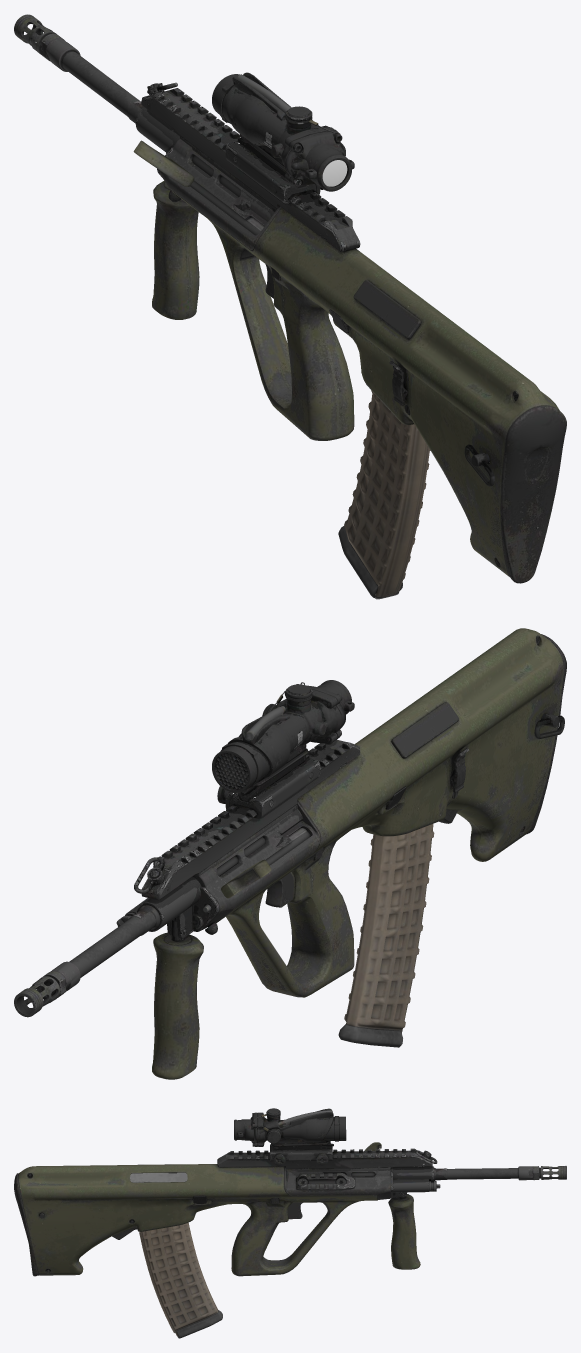
File: aug_r.glb
3 renders of one model, top to bottom at view 1: azimuth 30°, elevation 25°; view 2: azimuth 150°, elevation 25°; view 3: azimuth 270°, elevation 25°, orthographic. The views are drawn at different scales.
Parts seen in each view (by area): view 1: v_aug_R; view 2: v_aug_R; view 3: v_aug_R.
Part boxes in pixels (bbox=[...]): v_aug_R: bbox=[14, 14, 566, 599]; v_aug_R: bbox=[14, 628, 566, 1079]; v_aug_R: bbox=[14, 1108, 566, 1338].
Size of the model in its own units: 0.0941 by 0.3454 by 0.7691.
Materials: 3 (3 with a texture image).
